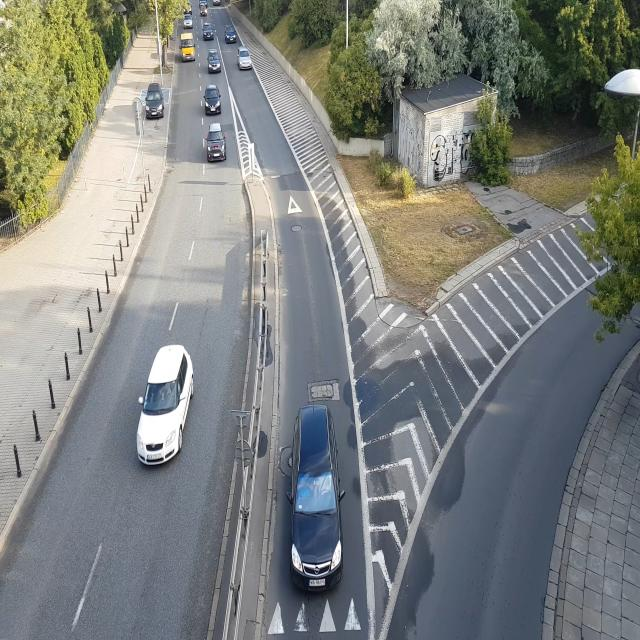car: (286, 396, 346, 596), (135, 339, 198, 469), (205, 120, 228, 167), (145, 82, 165, 120), (203, 85, 223, 116), (179, 32, 197, 61), (235, 45, 252, 71), (207, 48, 222, 75), (224, 24, 237, 44), (182, 14, 194, 31), (203, 24, 215, 40), (183, 3, 193, 13), (199, 5, 208, 16), (212, 0, 222, 6)
